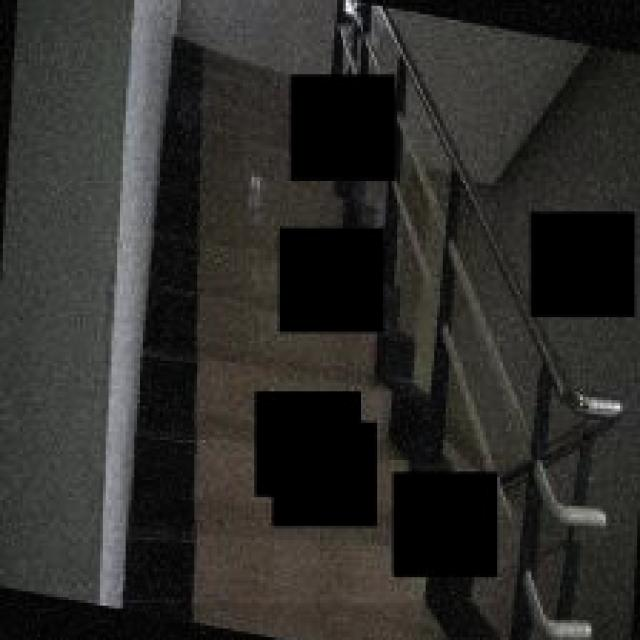upstair: (170, 35, 281, 381)
